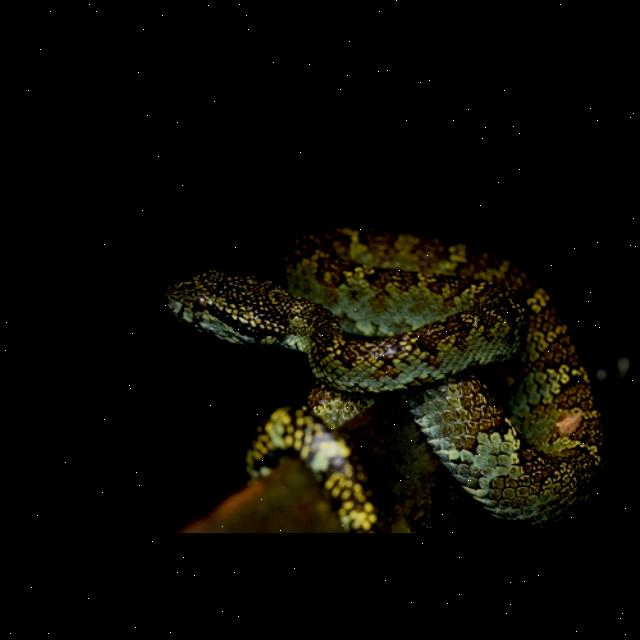snake: (142, 213, 612, 533)
